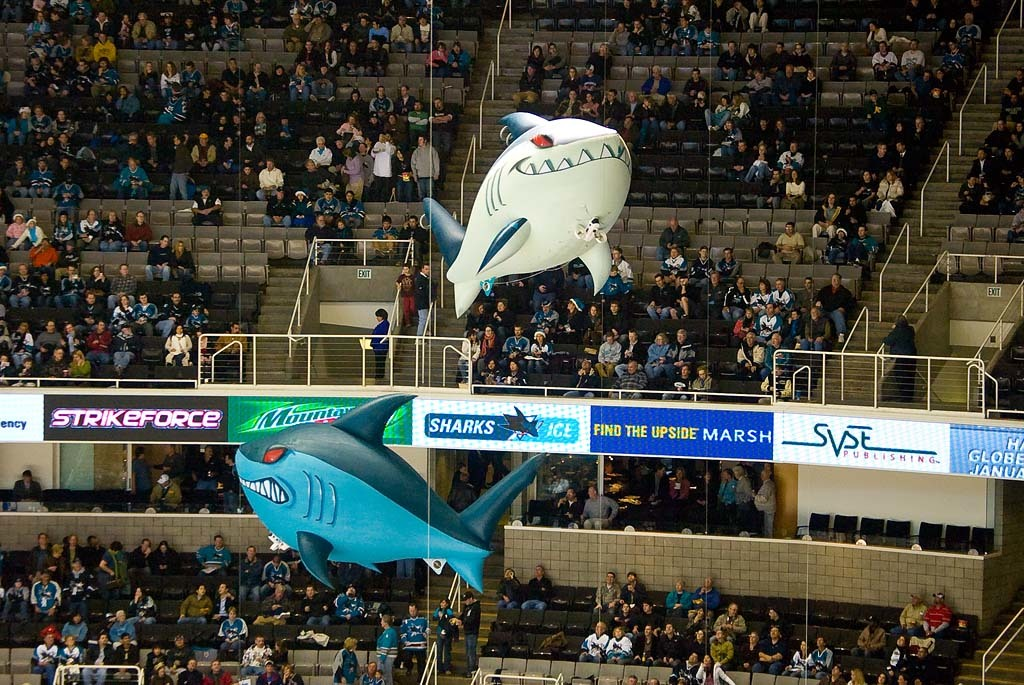Person: (0, 0, 1023, 684), (375, 616, 398, 684)
